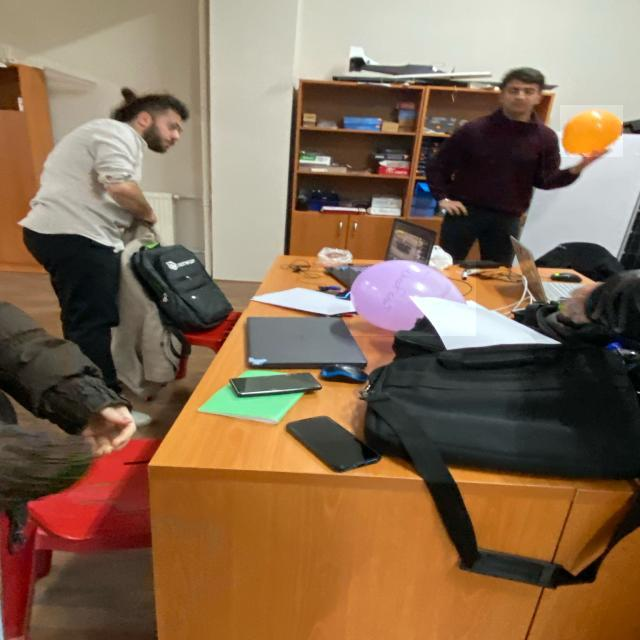balloon: (350, 260, 476, 336), (560, 105, 623, 157)
